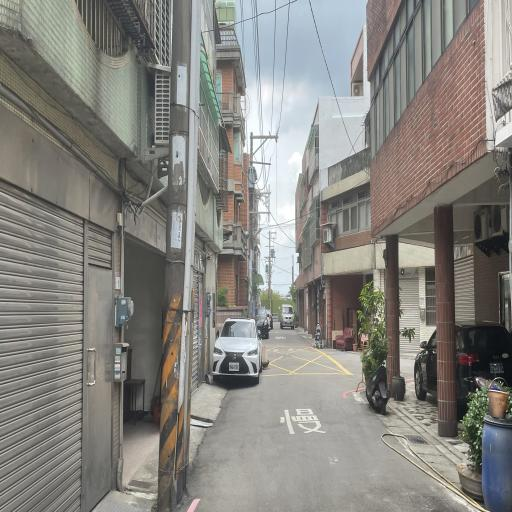car: (205, 302, 267, 390)
redline: (333, 384, 364, 406)
